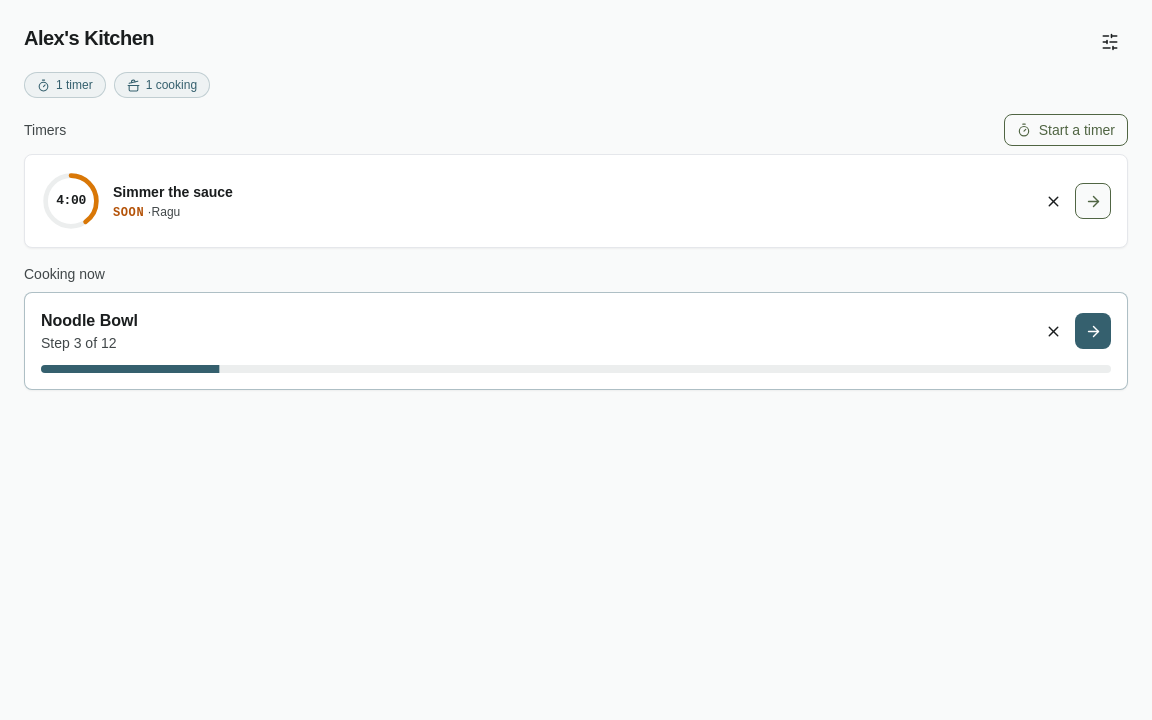
MinePage — the workbench › hides a section the moment its switch is turned off, without touching the others
This screenshot has width=1152, height=720.
Click the button with test id "mine-customize-open" at (1110, 42), box [1092, 24, 1128, 60]
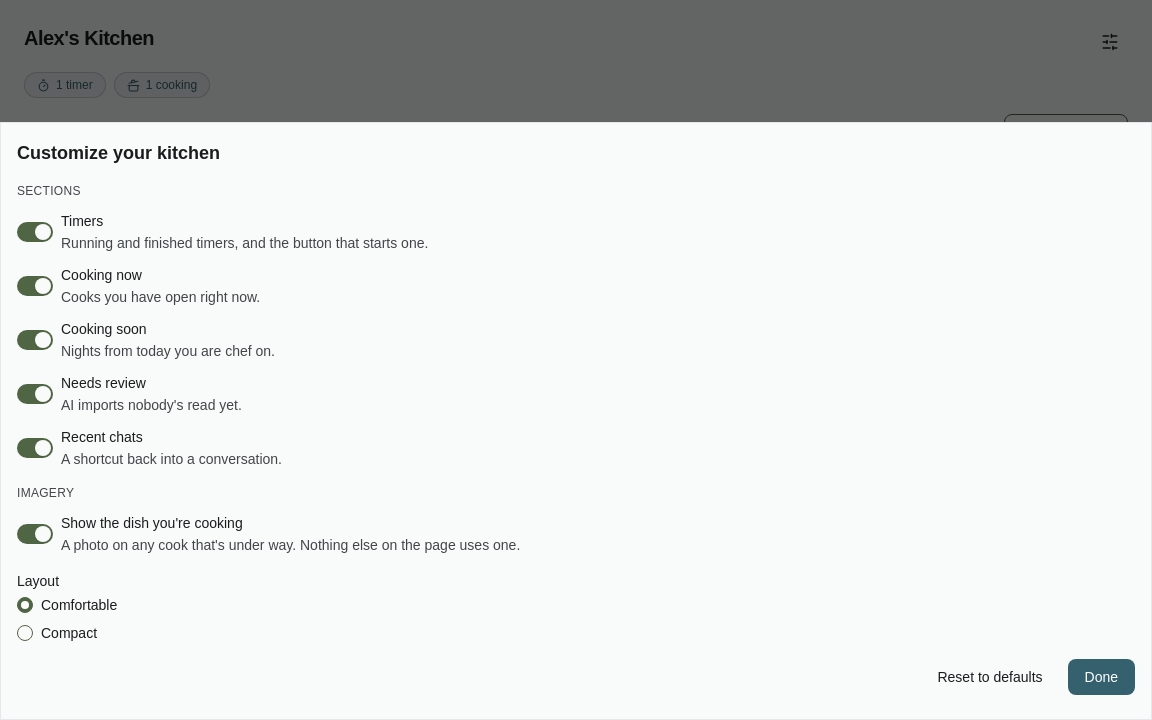
Click the 1st switch at (35, 232), box [17, 222, 53, 242]
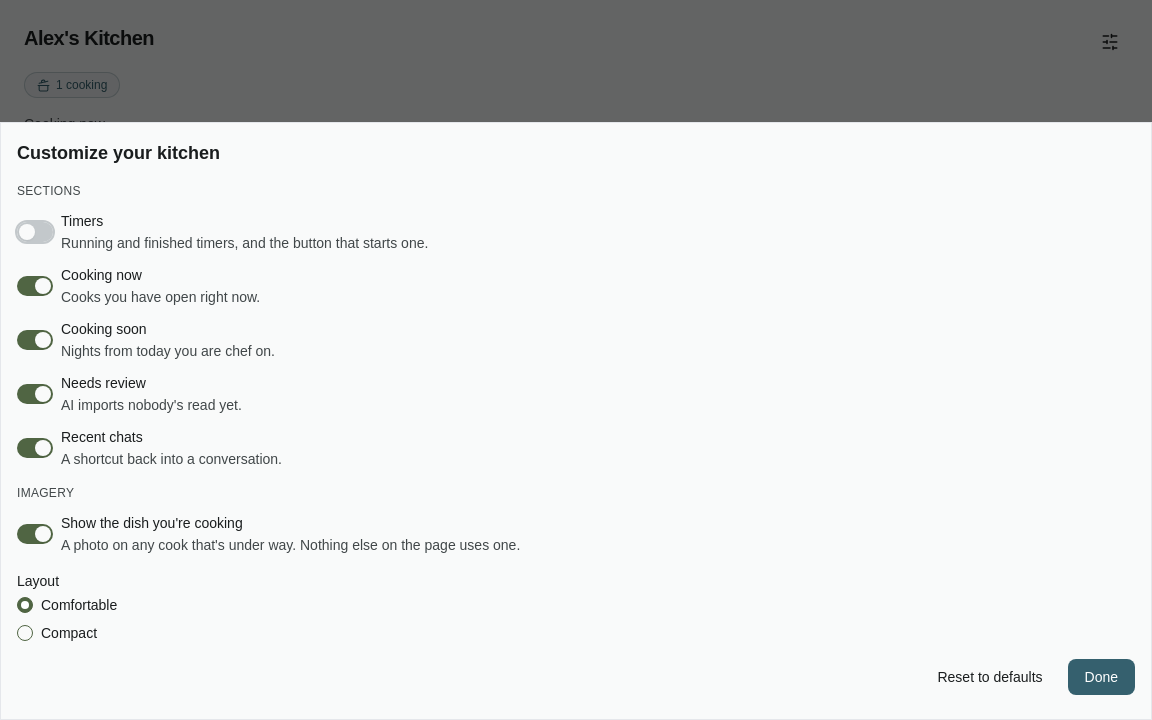
Expected: the element with test id "mine-live" is shown, [24, 114, 1128, 240]
Now the element with test id "mine-timers" is gone
